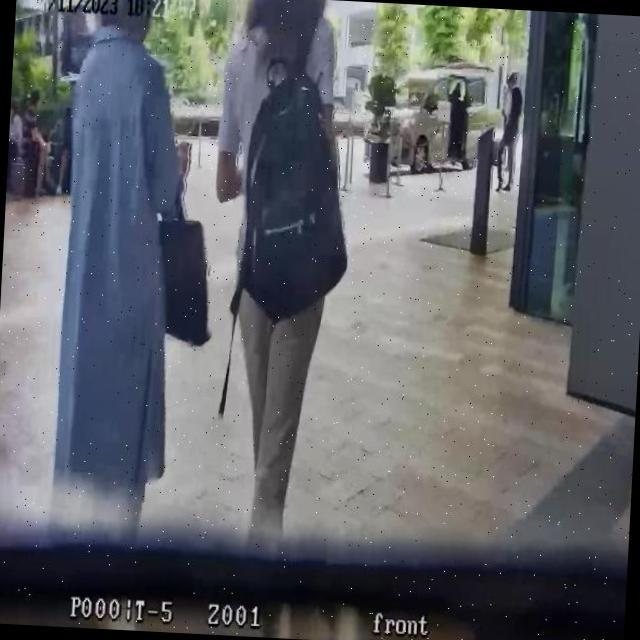person: (195, 0, 360, 547), (51, 0, 196, 517), (20, 90, 54, 200), (496, 70, 524, 190), (57, 105, 76, 197), (6, 100, 24, 192)
